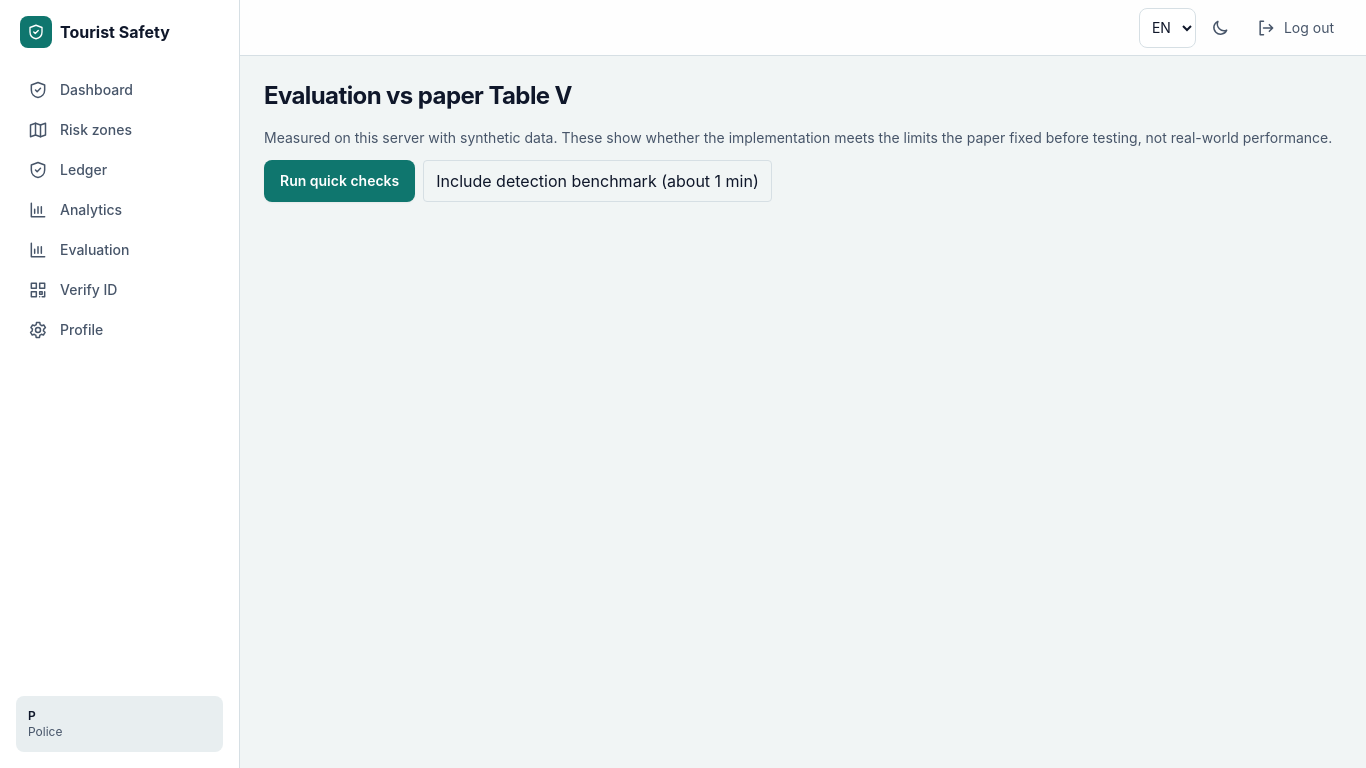
detection button requests the long benchmark; errors are shown
Click the button "Include detection benchmark (about 1 min)" at (598, 181), box top-left (423, 160), bottom-right (772, 202)
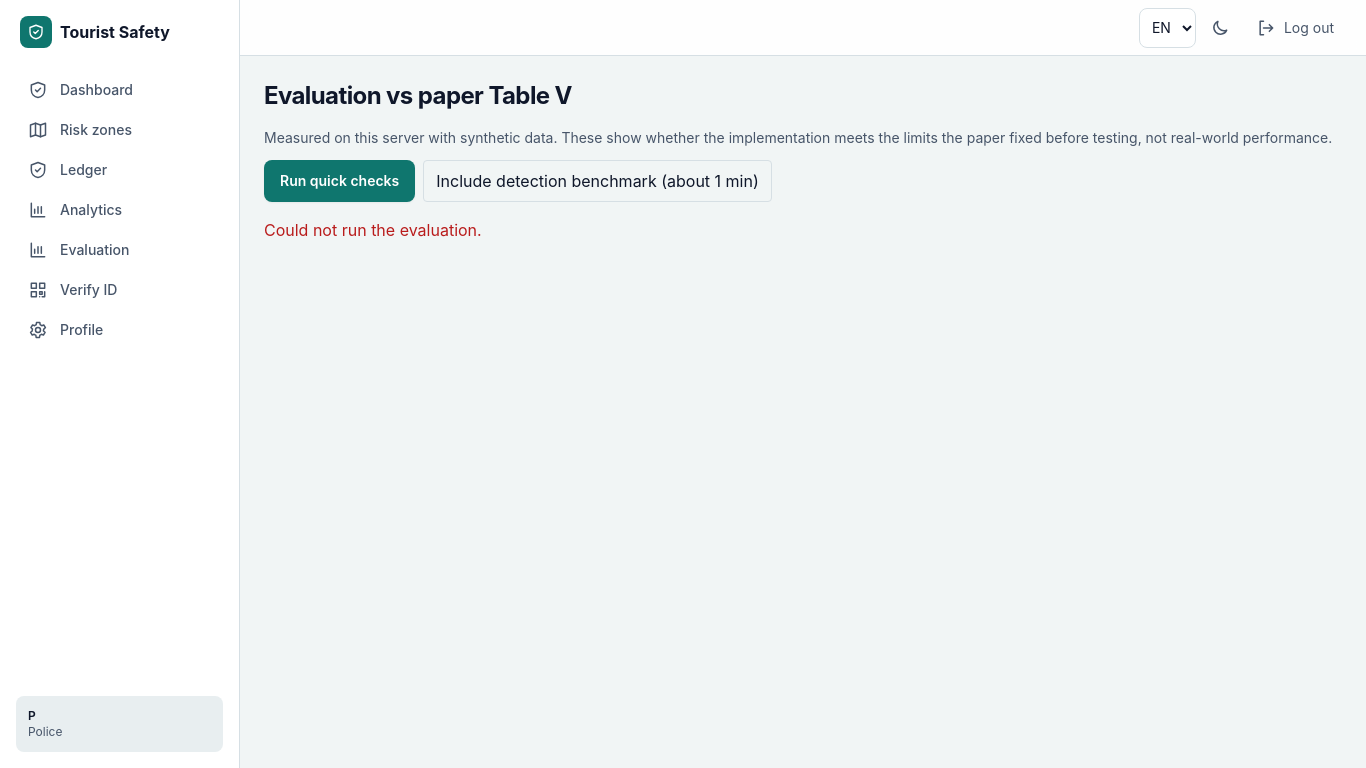
Check: the message shows "Could not run", box top-left (264, 220), bottom-right (482, 240)
